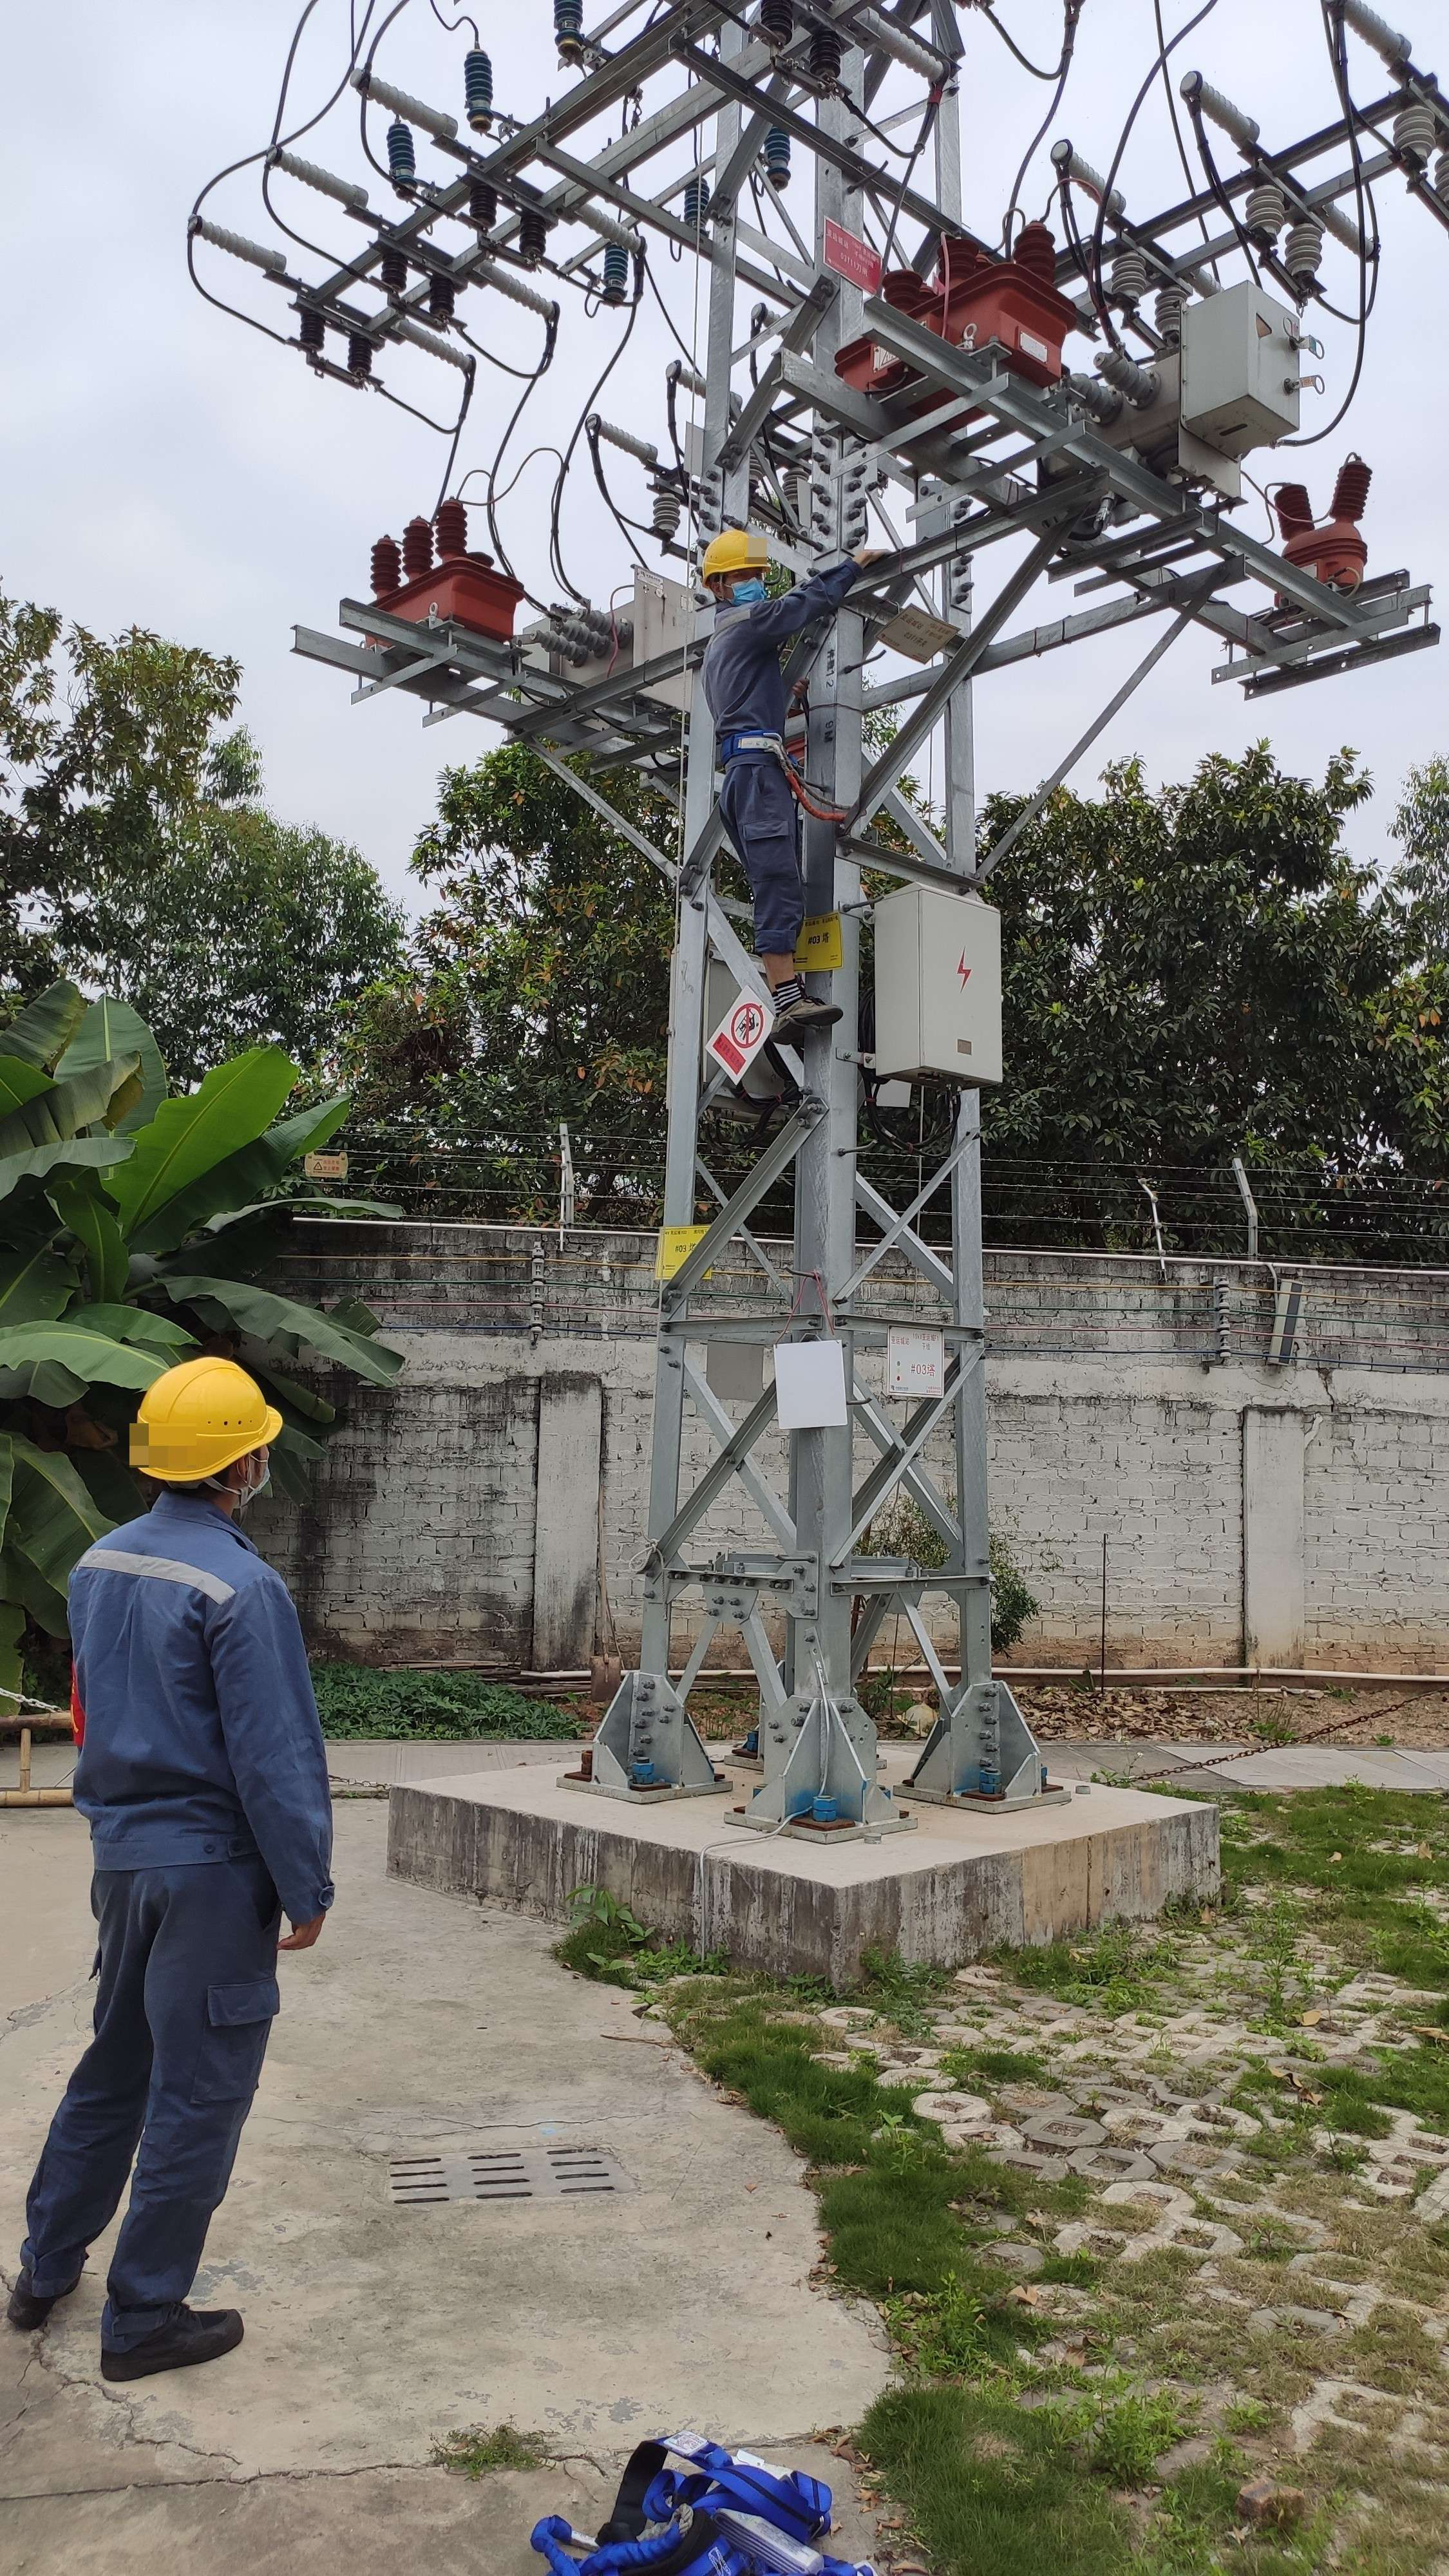downsuit: (21, 1897, 287, 2309), (715, 761, 840, 955)
upsuit: (57, 1497, 343, 1868), (695, 582, 842, 750)
wrongbottom: (750, 925, 810, 1016)
